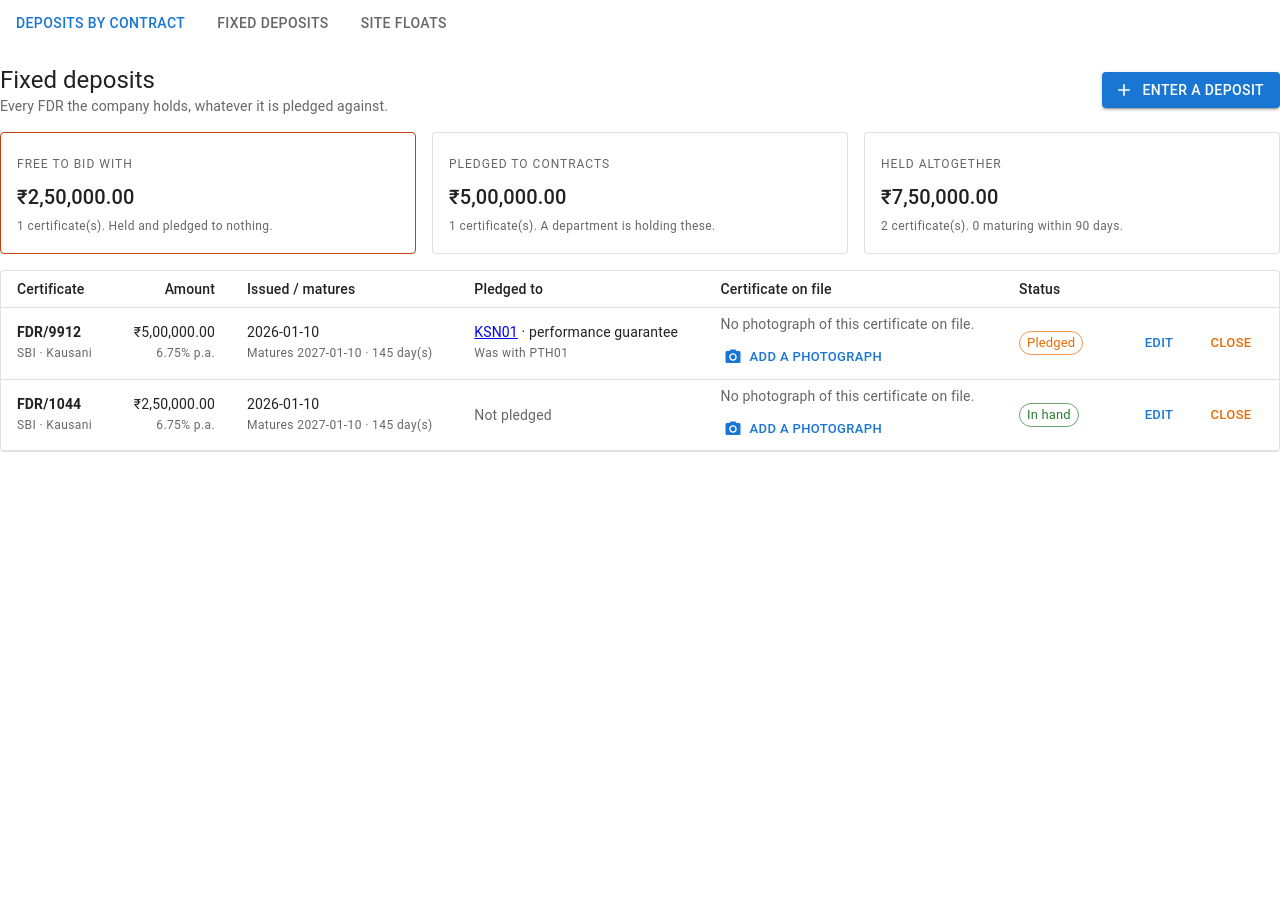
Test: FdrRegisterPage › warns before closing a certificate a department still holds
The image size is (1280, 900).
Click the button "Close" in the row of "FDR/9912": (1231, 343) [1199,328,1263,359]
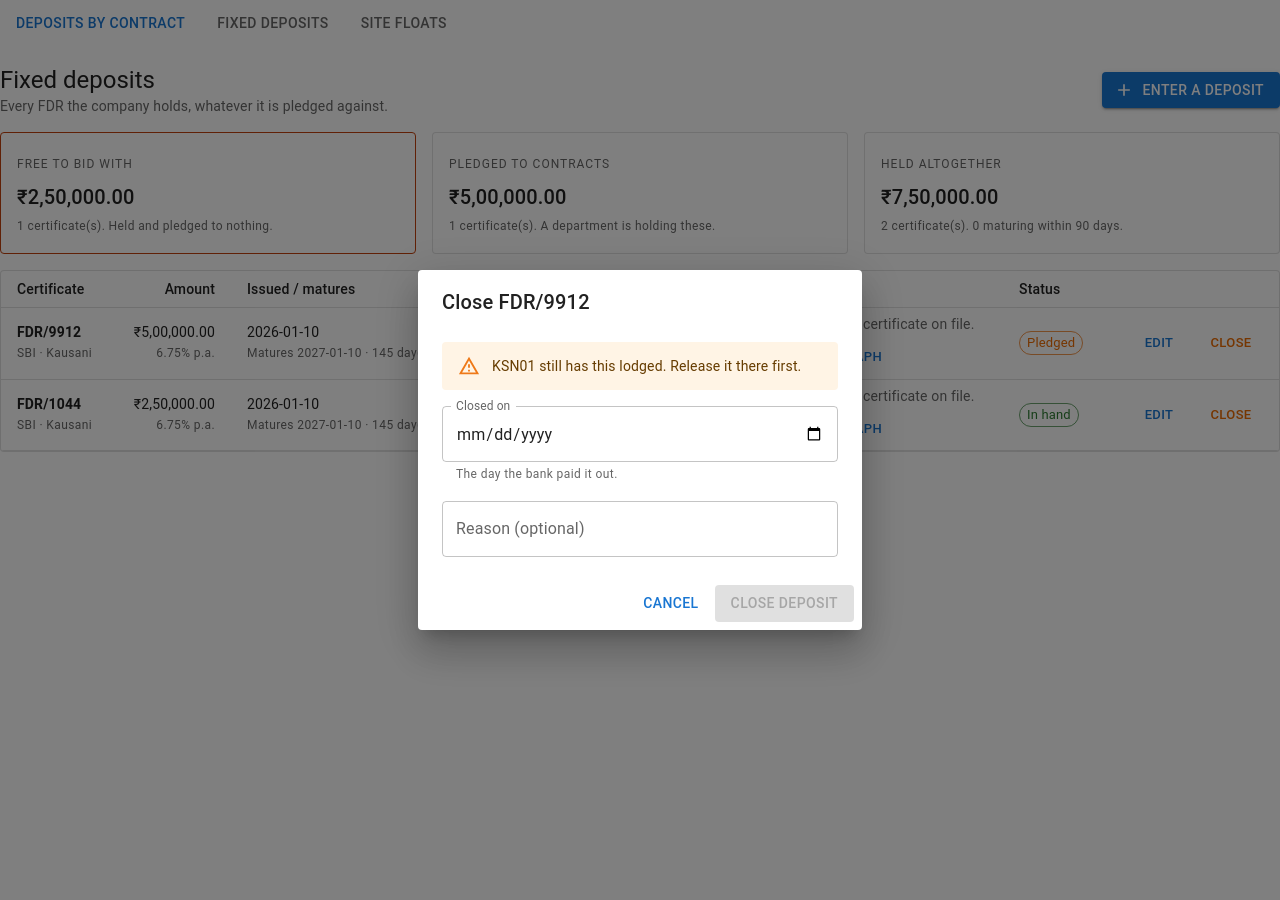
Now the text "KSN01 still has this lodged. Release it there first." is shown, box [492,358,802,374]
